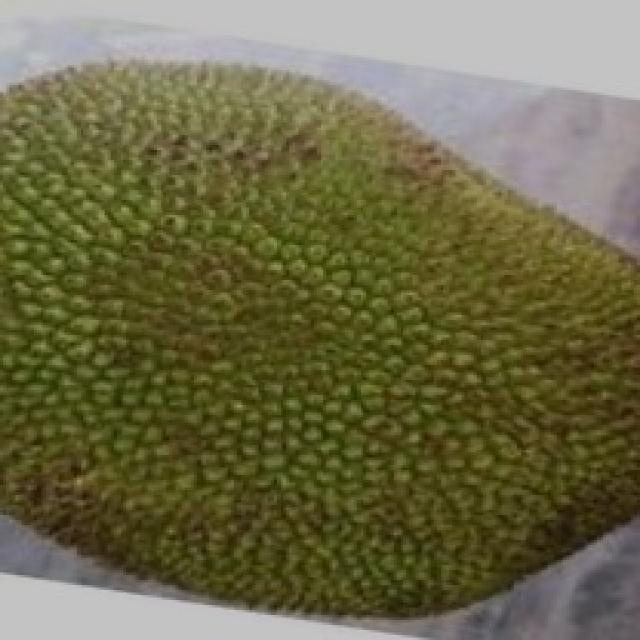Fruit: (0, 25, 403, 433), (0, 237, 394, 635), (246, 25, 640, 337), (295, 282, 637, 638)
